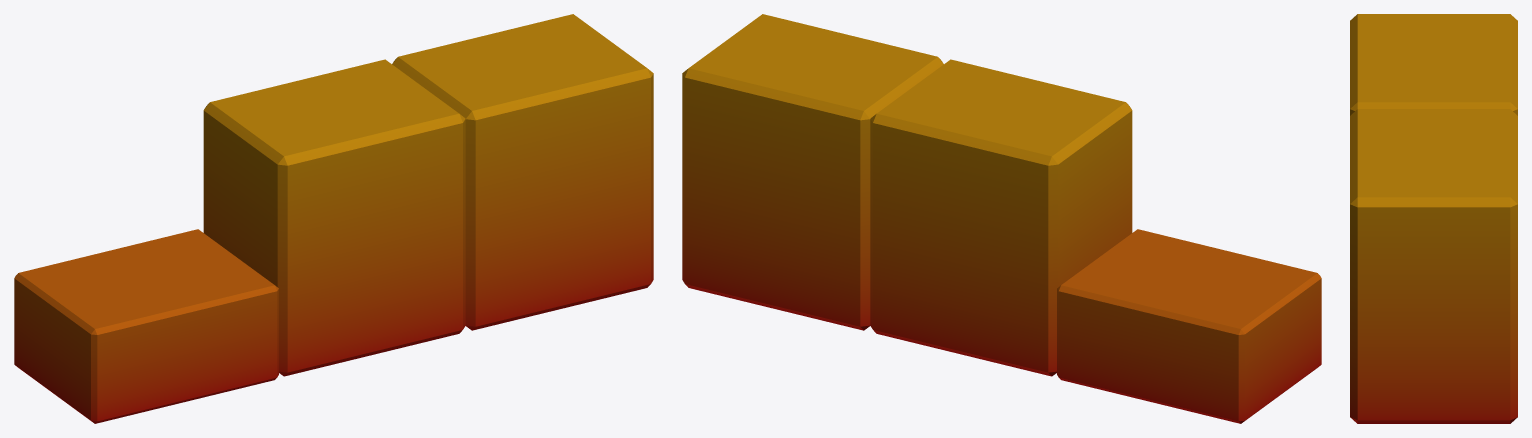
File: wall_low_broken.glb
The picture shows the model from 3 angles, left to right: view 1: azimuth 30°, elevation 25°; view 2: azimuth 150°, elevation 25°; view 3: azimuth 270°, elevation 25°; orthographic projection. The views are drawn at different scales.
Parts seen in each view (by area): view 1: wall_low_broken; view 2: wall_low_broken; view 3: wall_low_broken.
Boxes of the visible parts, box(x1,y1,x2,y2) form: wall_low_broken: box(14, 14, 653, 423); wall_low_broken: box(682, 14, 1321, 423); wall_low_broken: box(1350, 14, 1517, 423).
Size of what is drawn, in the model's own units: 2 by 0.7459 by 0.5.
